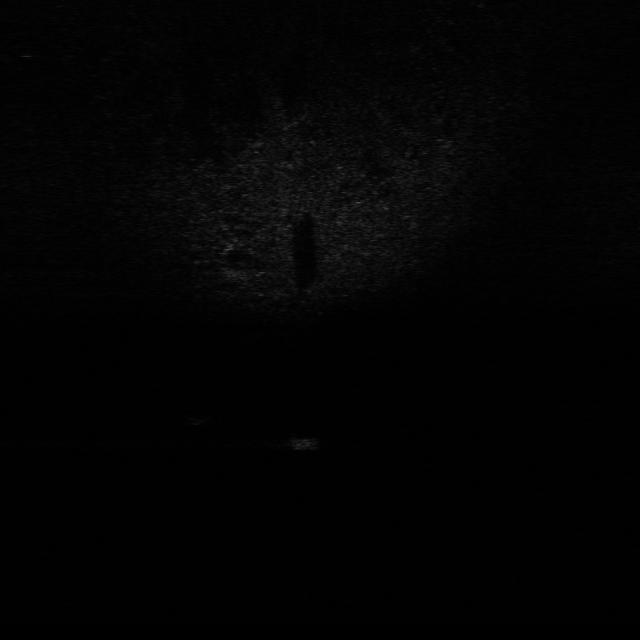ball: (186, 403, 216, 428)
cube: (284, 430, 326, 456)
